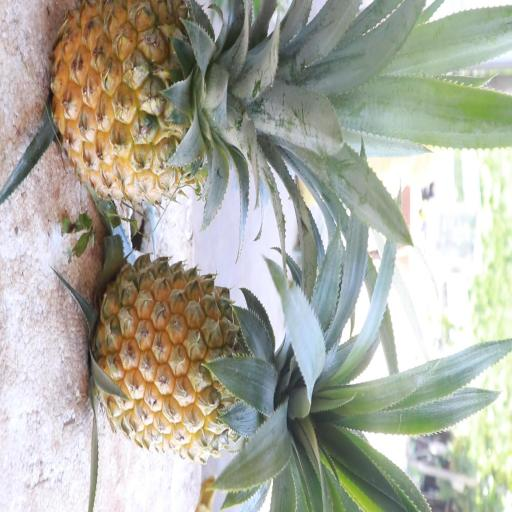Pineapple - v8 v1: (85, 247, 334, 468), (45, 0, 297, 216)
